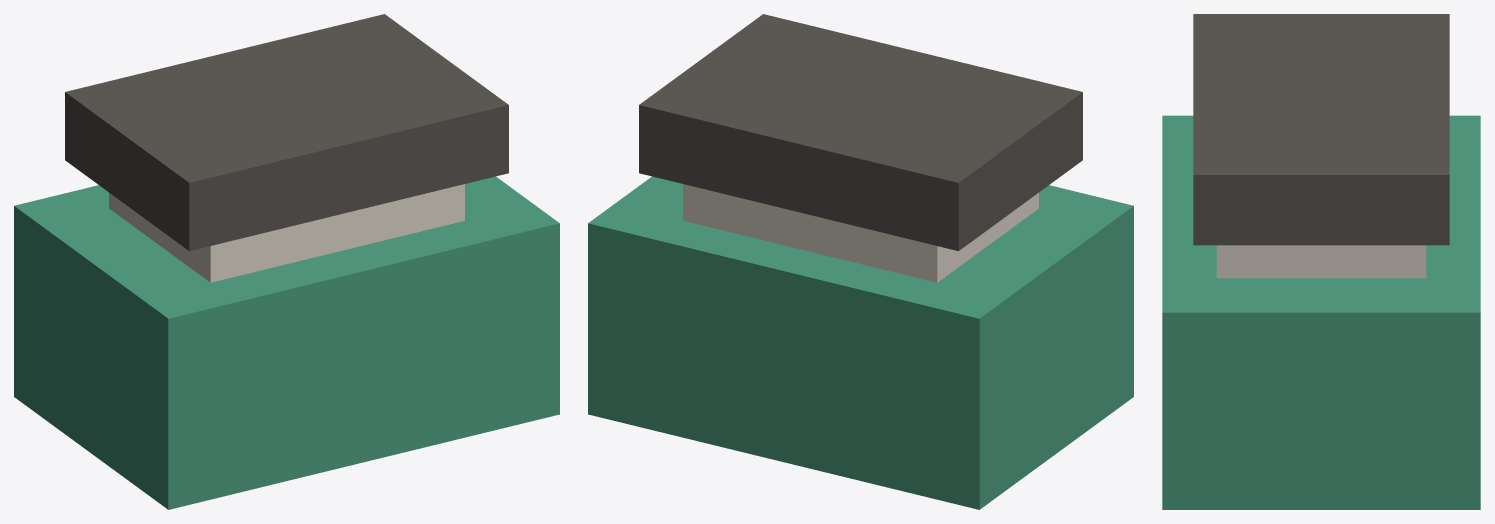
File: keel.glb
3 renders of one model, left to right at view 1: azimuth 30°, elevation 25°; view 2: azimuth 150°, elevation 25°; view 3: azimuth 270°, elevation 25°, orthographic. The views are drawn at different scales.
Parts seen in each view (by area): view 1: body, cap, collar; view 2: body, cap, collar; view 3: body, cap, collar.
Part boxes in pixels (x1,y1,x2,y2): body: [14, 176, 559, 509]; cap: [65, 14, 508, 250]; collar: [109, 184, 464, 282]; body: [588, 176, 1133, 509]; cap: [639, 14, 1082, 250]; collar: [683, 184, 1038, 282]; body: [1162, 115, 1480, 509]; cap: [1193, 14, 1449, 245]; collar: [1216, 245, 1426, 278].
Bounding box in the file's own units: 1.2 × 0.9 × 0.82.
